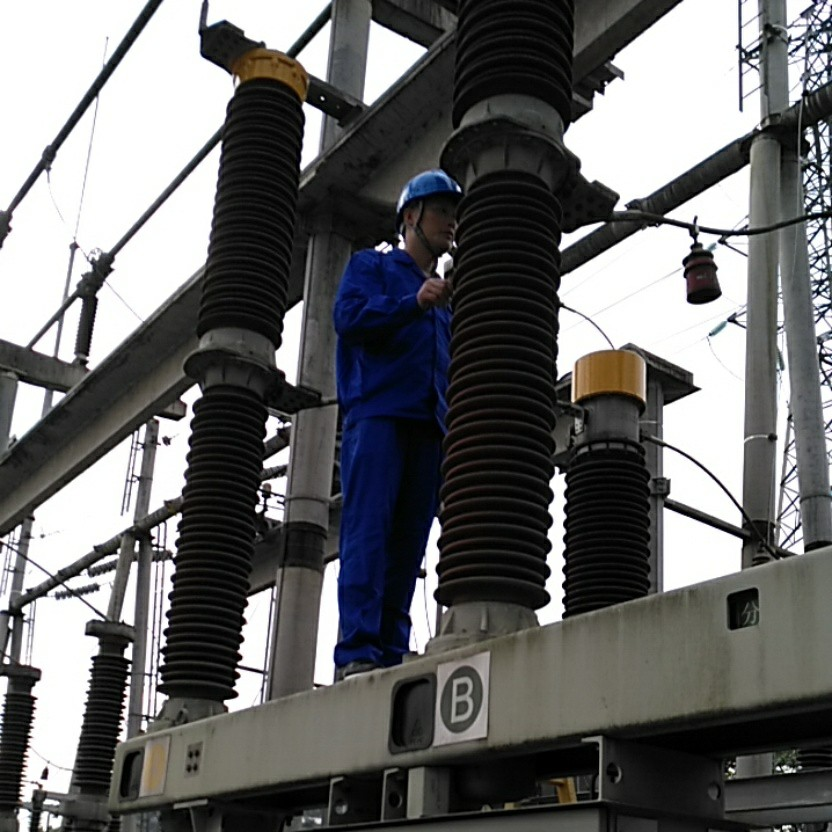hat: (392, 166, 464, 263)
